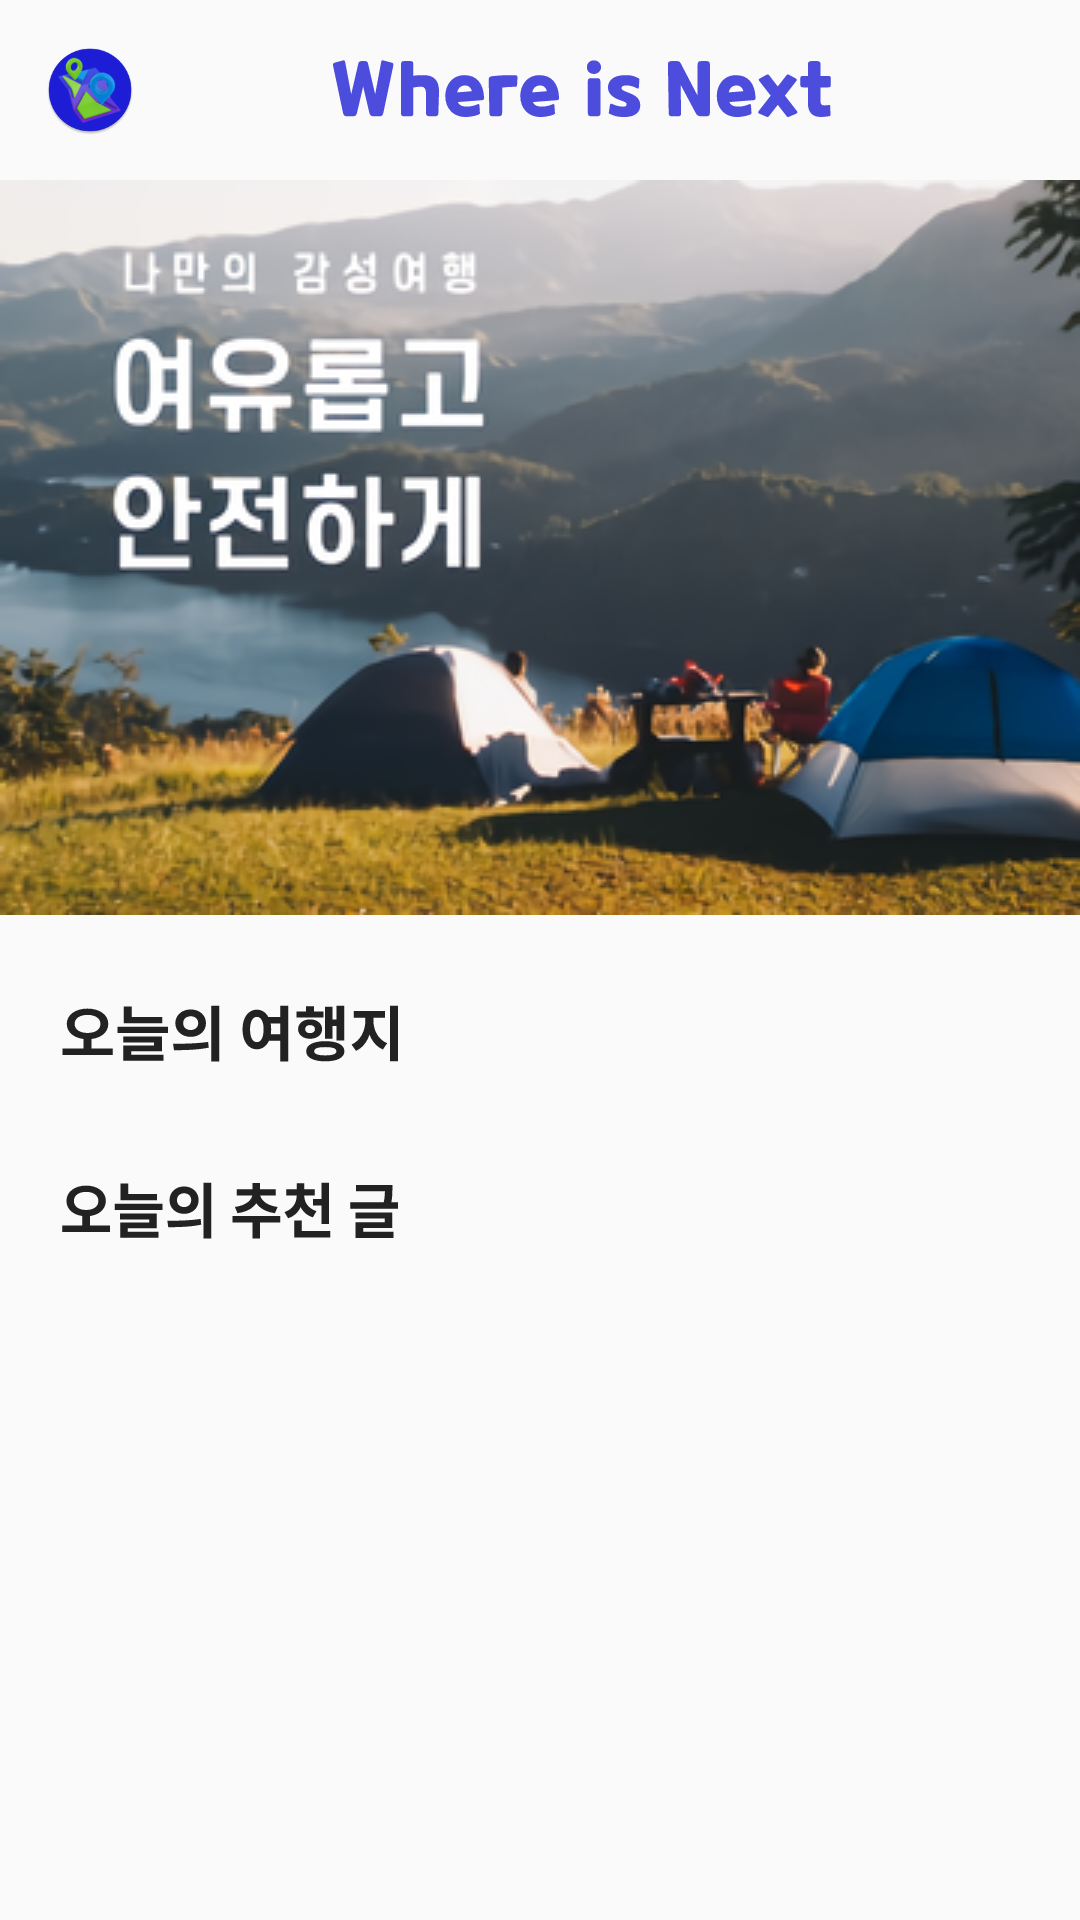

Where icons sit on this 1080w x 1920h app screen, as bbox(x1, y1, x2, y2):
round: bbox(48, 48, 132, 133)
